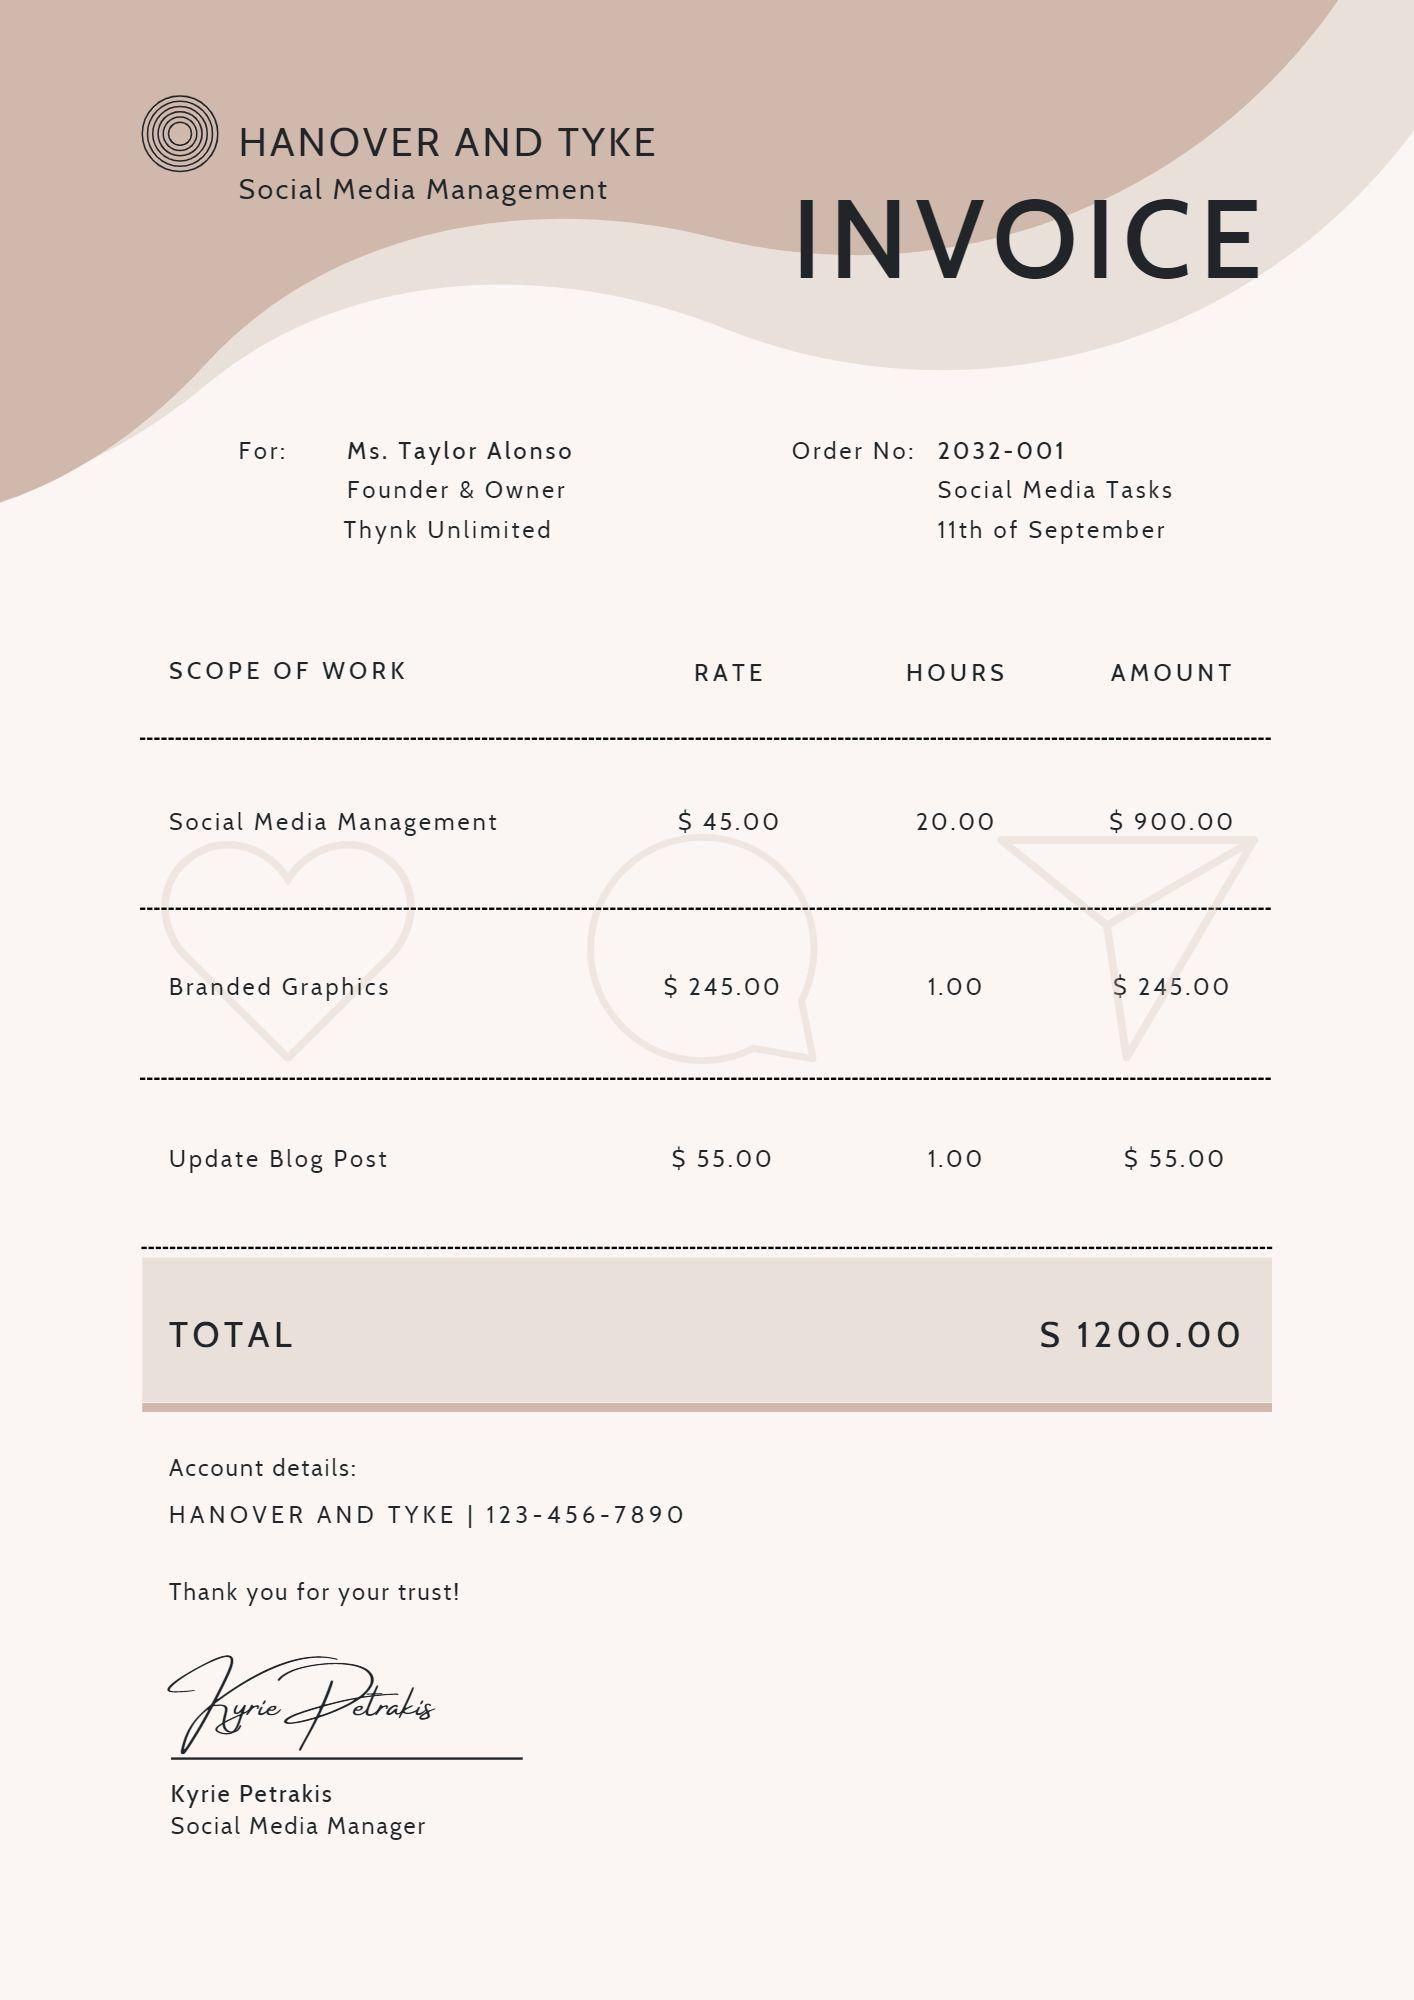ROI: (145, 627, 1267, 1256)
